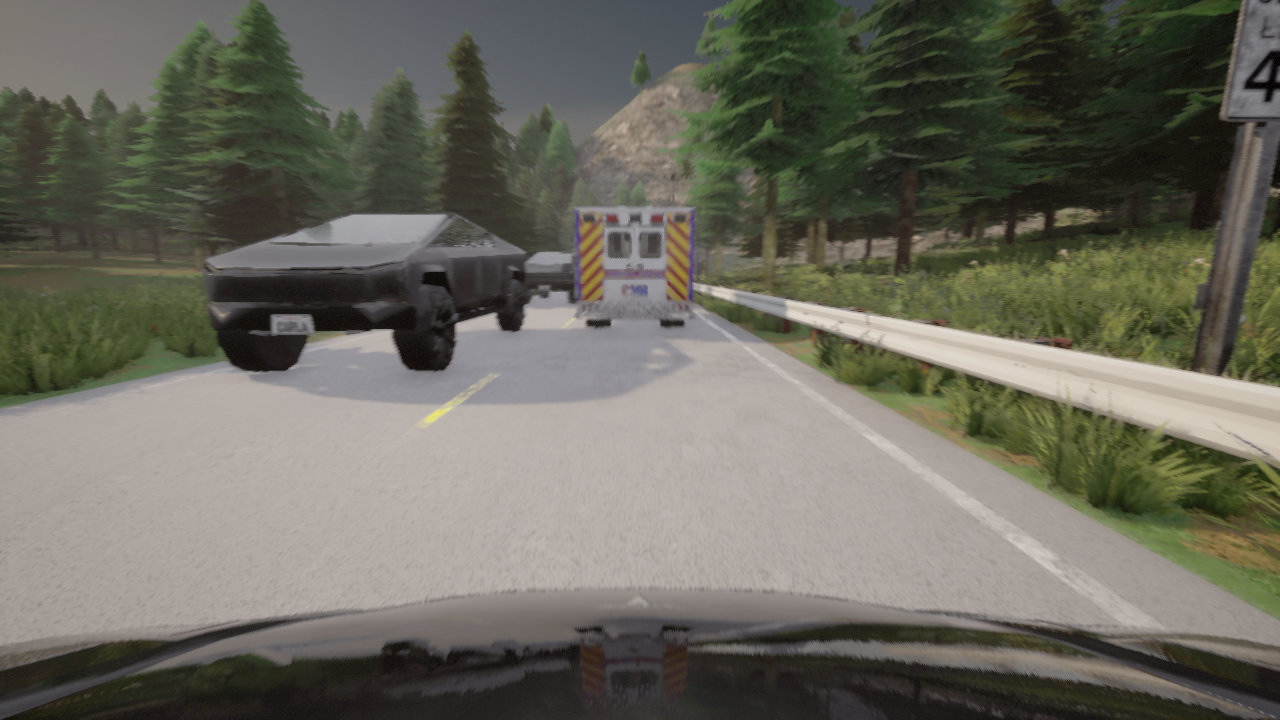cyclist: (0, 588, 1279, 719), (202, 213, 528, 373), (575, 207, 695, 327), (525, 252, 576, 304)
